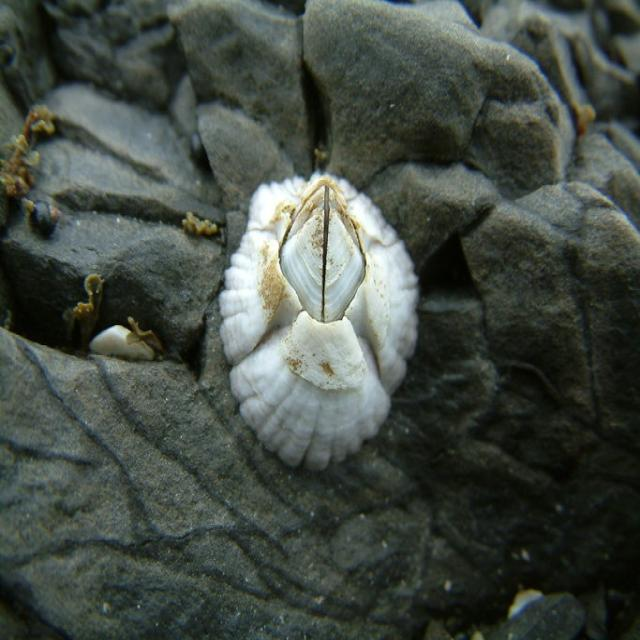barnacles: (215, 152, 424, 473)
